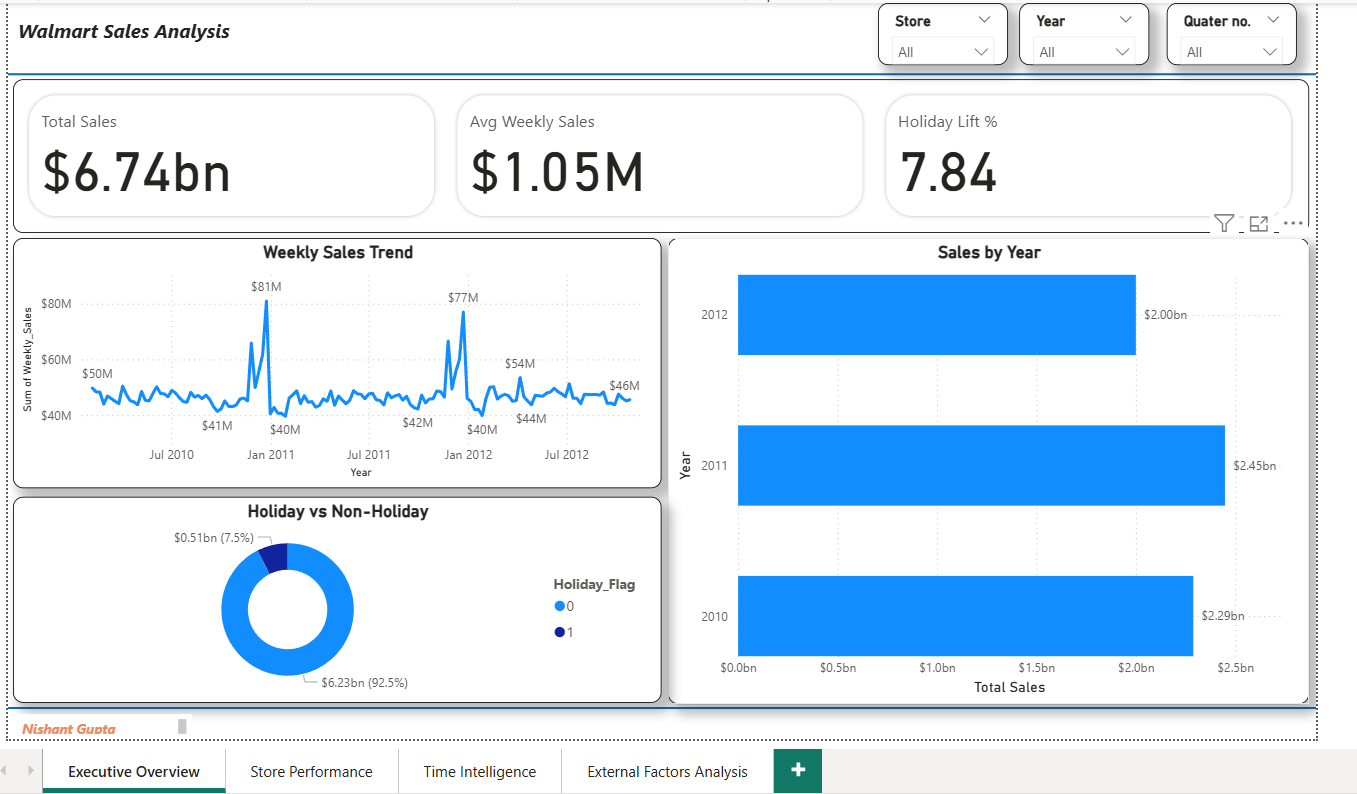

What the dashboard file says about the page in this screenshot:
{"tool":"powerbi","page":{"name":"Executive Overview","canvas":[1280,720],"ordinal":0},"visuals":[{"type":"shape","box":[0,63.6,1280,12.2],"z":0},{"type":"shape","box":[0,683.6,1280,12.2],"z":1000},{"type":"cardVisual","fields":{"Data":["KPI.Total Sales","KPI.Avg Weekly Sales","KPI.Holiday Lift %"]},"box":[4.9,74.6,1268.1,150.4],"z":2000},{"type":"lineChart","title":"Weekly Sales Trend","fields":{"Y":["Sum(Walmart DataSet.Weekly_Sales)"],"Category":["Date.Date.Variation.Date Hierarchy.Year","Date.Date.Variation.Date Hierarchy.Quarter","Date.Date.Variation.Date Hierarchy.Month","Date.Date.Variation.Date Hierarchy.Day"]},"box":[4.9,229.9,634.7,244.6],"z":3000},{"type":"clusteredBarChart","title":"Sales by Year","fields":{"Y":["KPI.Total Sales"],"Category":["Date.Year"]},"box":[645.7,229.9,627.3,456.1],"z":4000},{"type":"donutChart","title":"Holiday vs Non-Holiday","fields":{"Category":["Walmart DataSet.Holiday_Flag"],"Y":["KPI.Total Sales"]},"box":[4.9,483,634.7,201.8],"z":5000},{"type":"slicer","fields":{"Values":["Walmart DataSet.Store"]},"box":[851.1,0,127.2,61.1],"z":6000},{"type":"slicer","fields":{"Values":["Date.Year"]},"box":[989.3,0,127.2,61.1],"z":7000},{"type":"slicer","fields":{"Values":["Date.Quater no."]},"box":[1133.6,0,127.2,61.1],"z":8000},{"type":"textbox","box":[4.9,9.8,221.3,51.4],"z":8001},{"type":"textbox","box":[4.9,695.8,174.9,24.5],"z":8002}]}

Visuals, with their boxes on the page's 1280x720 design canvas (x1, y1, x2, y2). These are canvas units, not pixel positions in the 1357x794 screenshot, which may show the page scaled, cropped or inside an application window:
shape: [0,64,1280,76]
shape: [0,684,1280,696]
cardVisual - KPI.Total Sales x KPI.Avg Weekly Sales: [5,75,1273,225]
"Weekly Sales Trend" lineChart: [5,230,640,474]
"Sales by Year" clusteredBarChart: [646,230,1273,686]
"Holiday vs Non-Holiday" donutChart: [5,483,640,685]
slicer - Walmart DataSet.Store: [851,0,978,61]
slicer - Date.Year: [989,0,1116,61]
slicer - Date.Quater no.: [1134,0,1261,61]
textbox: [5,10,226,61]
textbox: [5,696,180,720]
